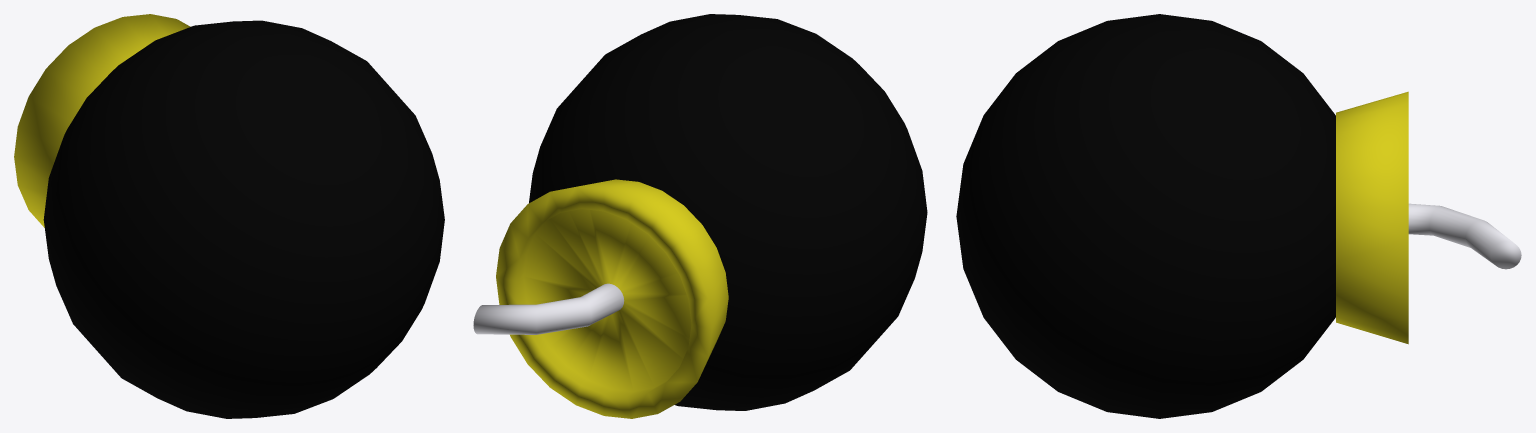
The model's file is bomb.fbx.
3 renders of one model, left to right at view 1: azimuth 30°, elevation 25°; view 2: azimuth 150°, elevation 25°; view 3: azimuth 270°, elevation 25°, orthographic.
Parts seen in each view (by area): view 1: Sphere; view 2: Sphere; view 3: Sphere.
Boxes of the visible parts, box(x1,y1,x2,y2) form: Sphere: box(14, 14, 444, 418); Sphere: box(473, 14, 927, 418); Sphere: box(956, 14, 1521, 418).
Bounding box in the file's own units: 200 × 200 × 278.
